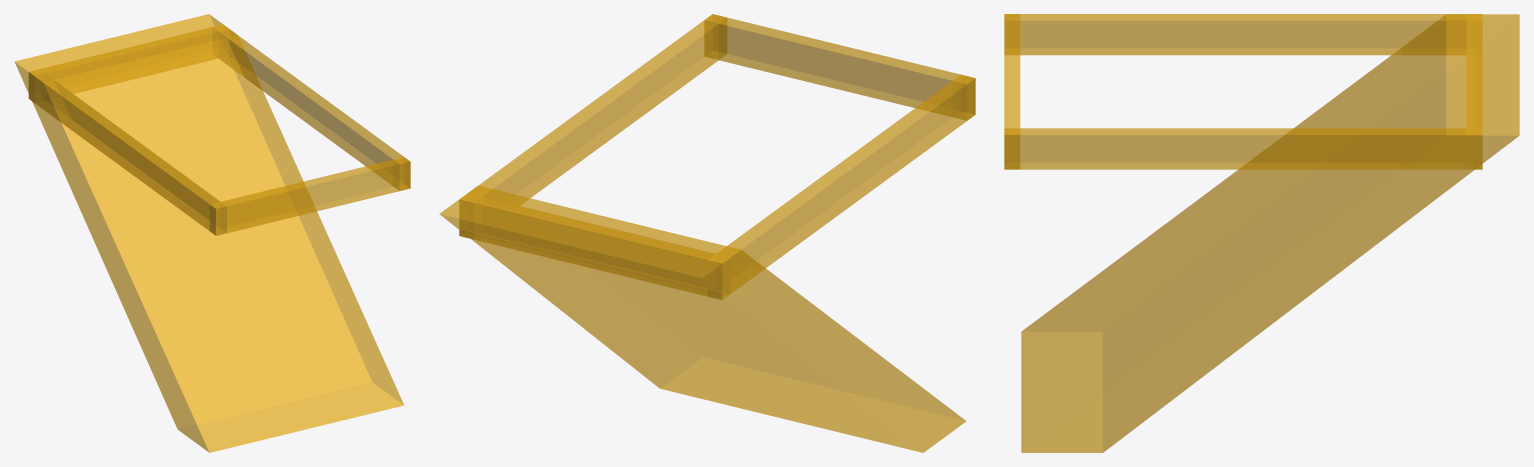
File: SM_Veh_Ship_Stairs_01_Collision.fbx
The picture shows the model from 3 angles, left to right: view 1: azimuth 30°, elevation 25°; view 2: azimuth 150°, elevation 25°; view 3: azimuth 270°, elevation 25°; orthographic projection. The views are drawn at different scales.
Visible parts, largest first — view 1: SM_Veh_Ship_Stairs_01_Collision; view 2: SM_Veh_Ship_Stairs_01_Collision; view 3: SM_Veh_Ship_Stairs_01_Collision.
Boxes of the visible parts, x1,y1,x2,y2 form: SM_Veh_Ship_Stairs_01_Collision: (14,14,410,452); SM_Veh_Ship_Stairs_01_Collision: (439,14,975,452); SM_Veh_Ship_Stairs_01_Collision: (1004,14,1519,452).
Size of the model in its own units: 259 by 316 by 465.
